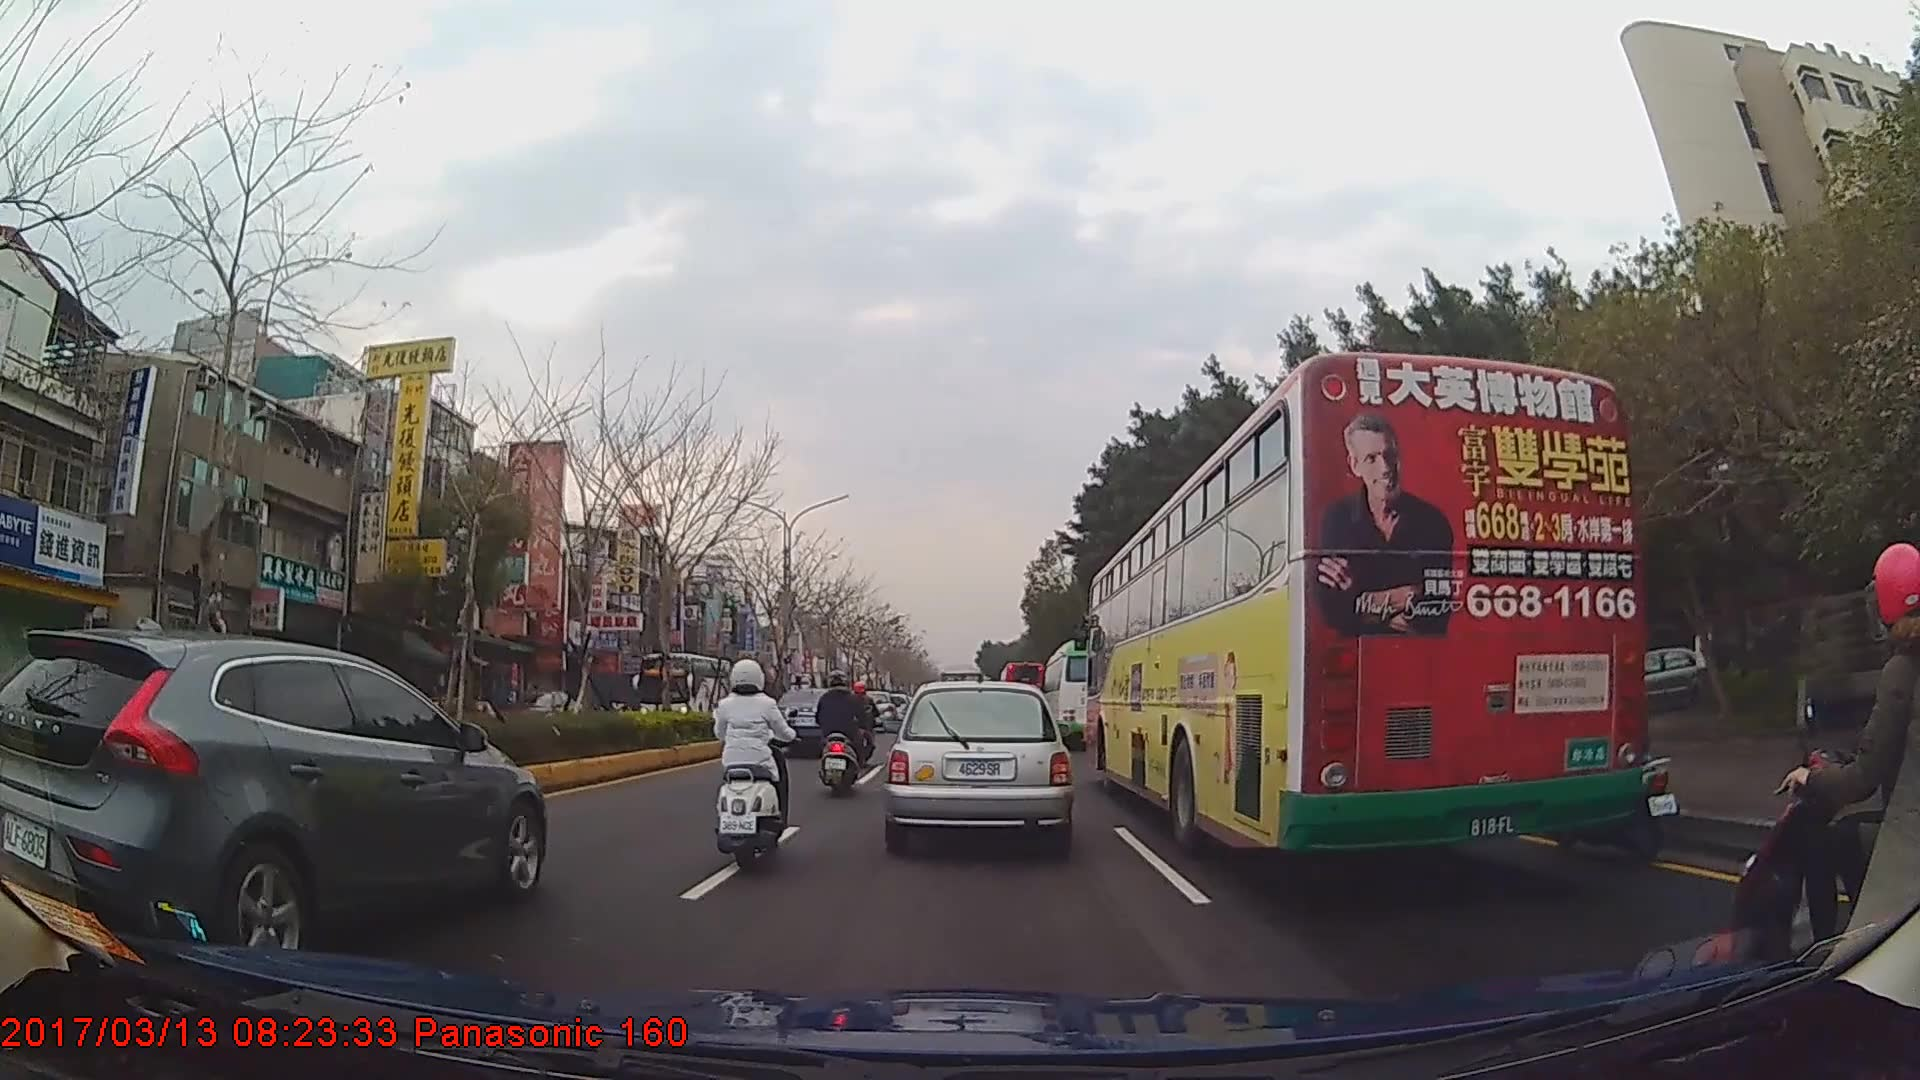rider: (1731, 542, 1920, 1005), (1554, 636, 1682, 872), (711, 656, 798, 870), (813, 674, 867, 797), (846, 680, 881, 769)
vehicle: (1088, 350, 1648, 864), (0, 631, 546, 970), (885, 678, 1071, 853), (1041, 640, 1123, 748), (633, 651, 731, 732), (774, 690, 870, 763), (505, 689, 583, 735), (999, 656, 1047, 728)
